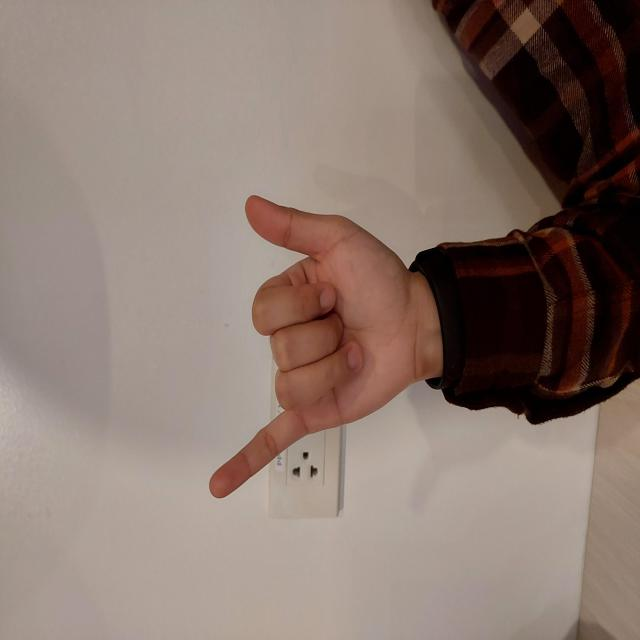Y: (139, 206, 449, 425)
